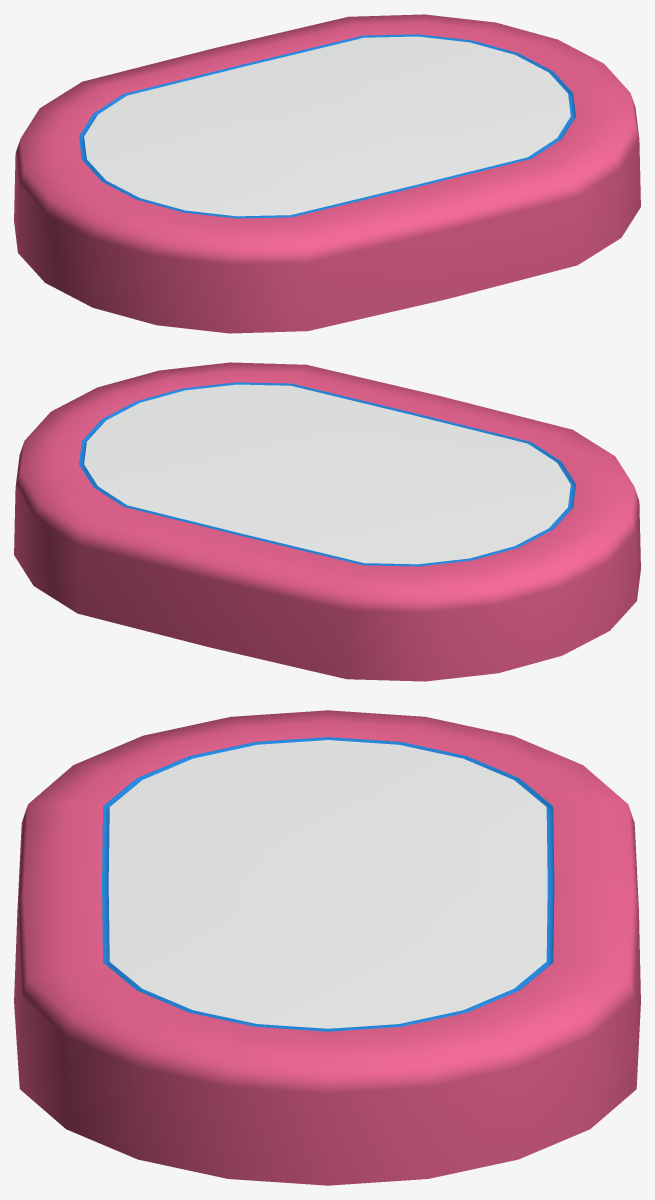
File: start (1).fbx
3 renders of one model, top to bottom at view 1: azimuth 30°, elevation 25°; view 2: azimuth 150°, elevation 25°; view 3: azimuth 270°, elevation 25°, orthographic. The views are drawn at different scales.
Parts seen in each view (by area): view 1: start; view 2: start; view 3: start.
Part boxes in pixels (x1,y1,x2,y2): start: [14, 14, 640, 333]; start: [14, 362, 640, 681]; start: [14, 710, 640, 1185].
Size of the model in its own units: 3562 by 528 by 2562.
